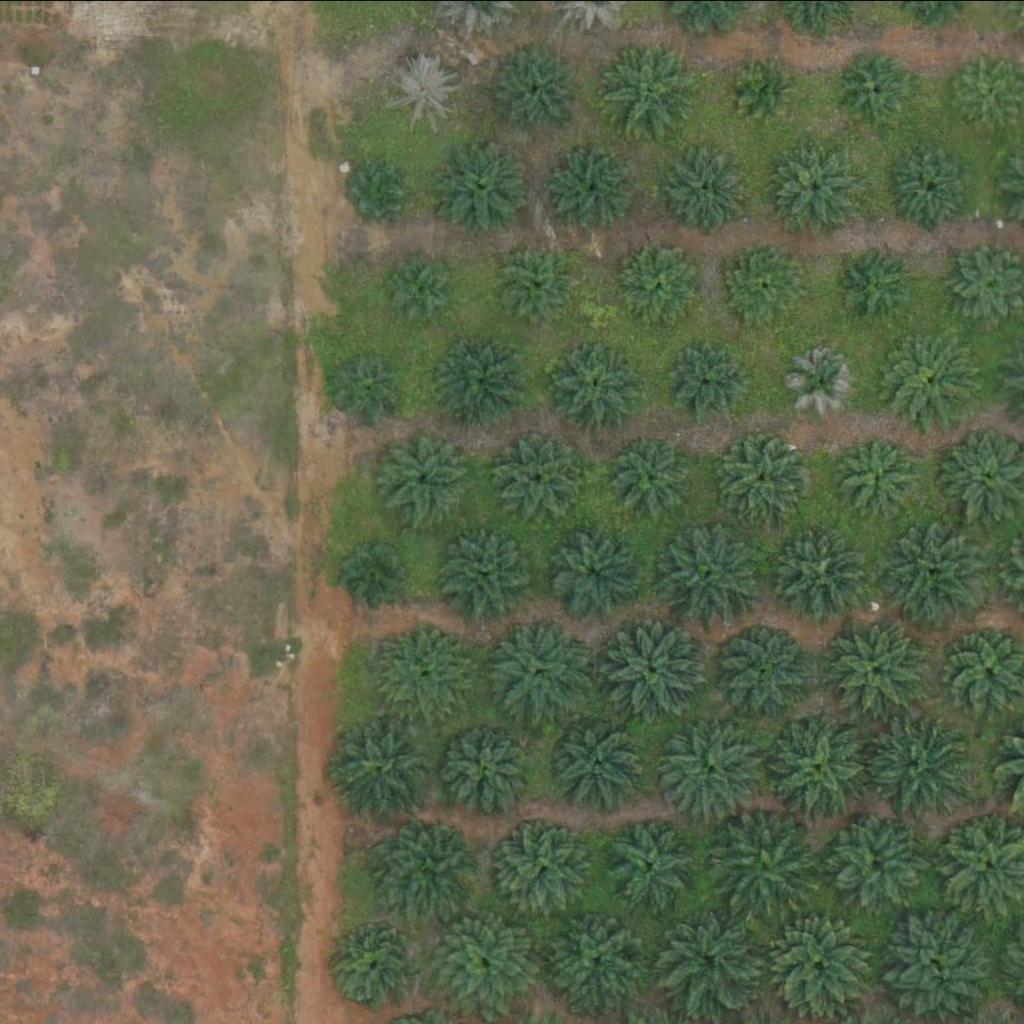Kelapa_Sawit: (430, 903, 544, 1016), (542, 899, 656, 1012), (706, 802, 820, 915), (763, 710, 877, 823), (862, 702, 976, 815), (653, 515, 766, 628), (656, 713, 770, 825), (878, 516, 992, 628), (657, 900, 770, 1012), (881, 901, 994, 1013), (327, 709, 440, 821), (597, 609, 710, 721), (768, 910, 869, 1010), (382, 813, 483, 913), (825, 808, 926, 908), (441, 712, 542, 812), (547, 710, 648, 810), (379, 619, 480, 719), (485, 617, 586, 717), (437, 523, 538, 623), (545, 520, 646, 620), (769, 522, 870, 622), (375, 426, 476, 526), (878, 324, 979, 424), (491, 813, 591, 913), (602, 810, 702, 910), (713, 618, 813, 718), (830, 616, 930, 716), (433, 134, 533, 234), (487, 35, 587, 135), (601, 35, 701, 135), (499, 430, 588, 518), (723, 240, 812, 328), (890, 138, 979, 226), (830, 239, 918, 327), (442, 336, 530, 424), (555, 339, 643, 427), (621, 237, 709, 325), (330, 922, 418, 1009), (613, 434, 701, 521), (723, 431, 811, 518), (550, 142, 638, 229), (666, 143, 754, 230), (776, 142, 864, 229), (840, 437, 916, 512), (386, 53, 462, 128), (505, 247, 580, 322), (841, 47, 916, 122), (673, 343, 748, 418), (787, 341, 862, 416), (338, 354, 401, 417), (385, 257, 448, 320), (340, 537, 403, 600), (736, 57, 799, 120), (346, 162, 408, 224)
